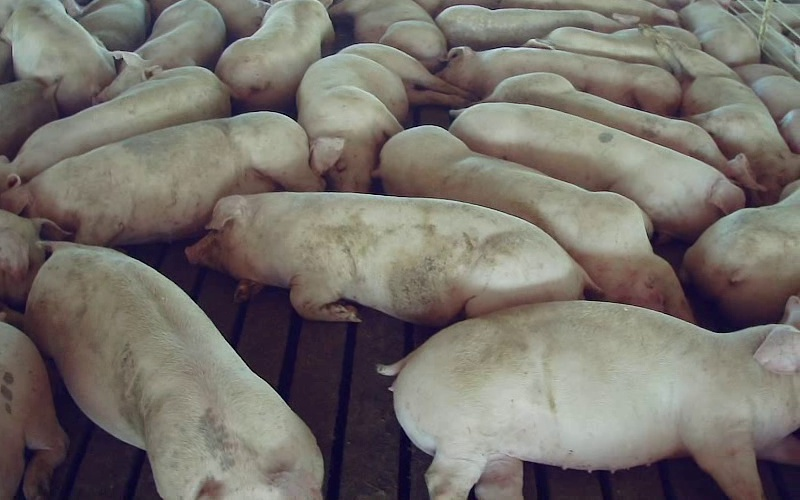pig: (378, 297, 799, 499), (25, 242, 322, 499), (377, 126, 692, 319), (186, 192, 592, 325), (0, 112, 324, 245), (449, 103, 744, 241), (482, 72, 760, 188), (0, 66, 230, 192), (642, 28, 799, 204), (298, 44, 468, 192), (682, 180, 799, 325), (438, 46, 681, 115), (436, 5, 638, 49), (329, 0, 446, 71), (527, 27, 669, 69)
